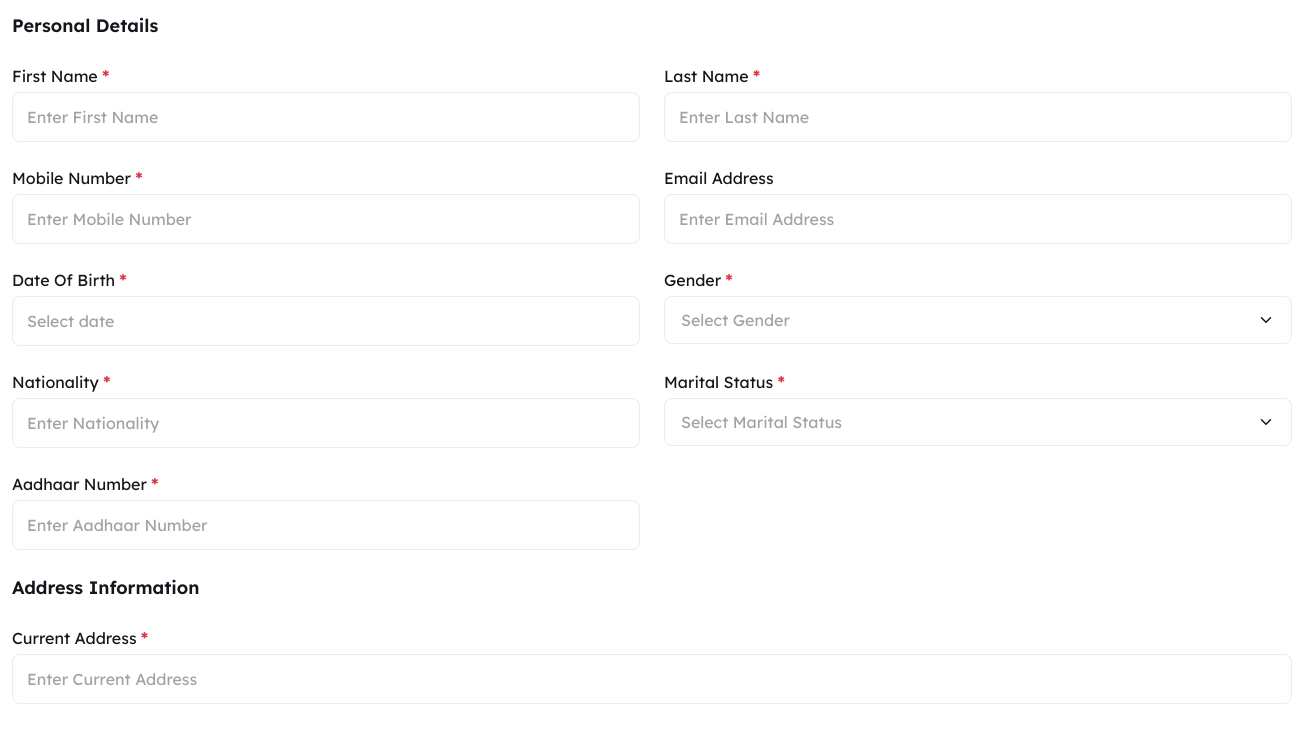
Test: PersonalInformationForm › offers the genders the backend serves
Click the button "Select Gender".
click(735, 320)  # box x1=664 y1=296 x2=1292 y2=344
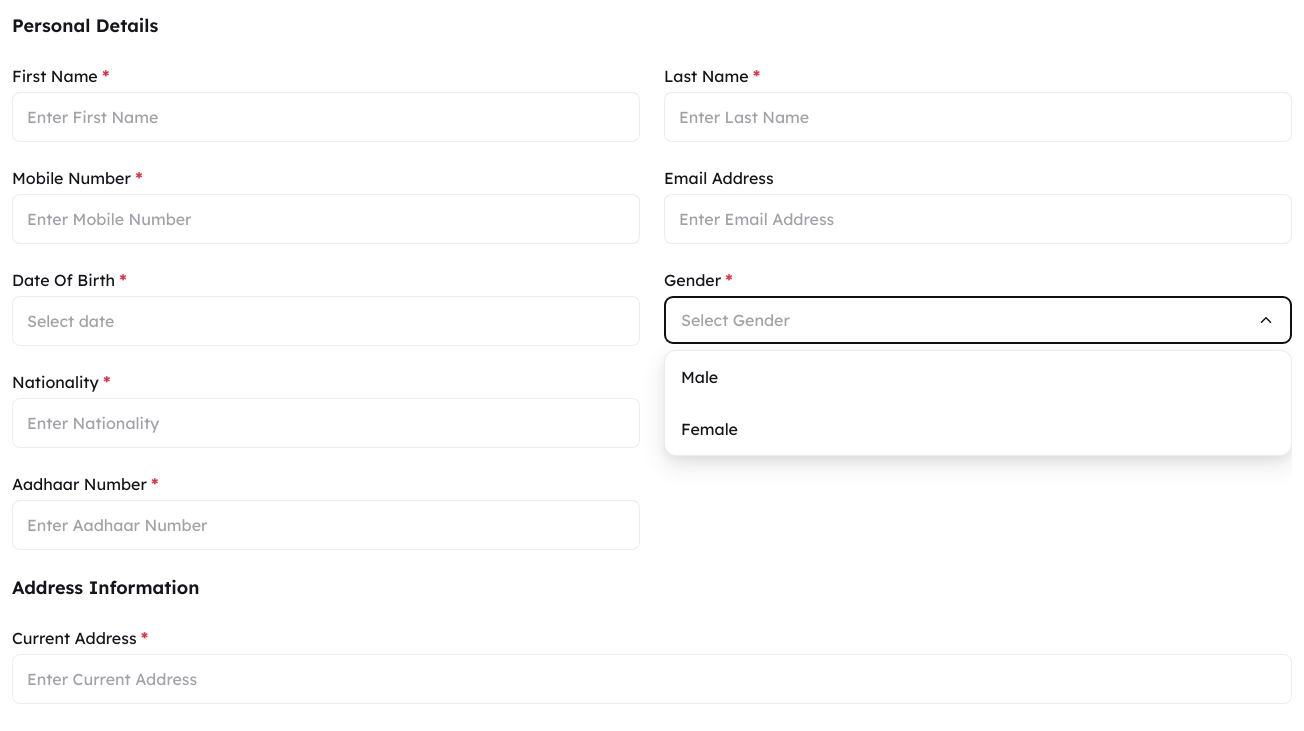
Click the button "Female".
click(709, 429)  # box x1=665 y1=403 x2=1291 y2=455
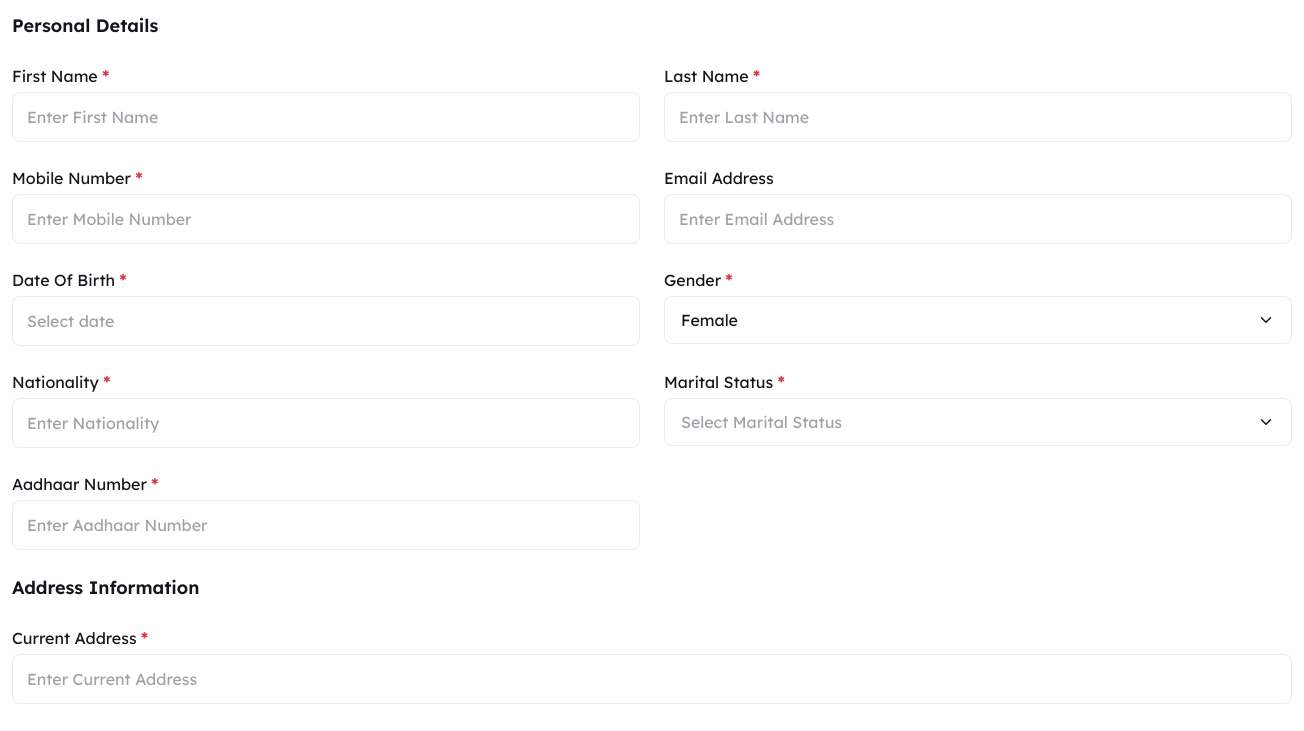
Expected: the button "Female" is shown, x1=664 y1=296 x2=1292 y2=344
